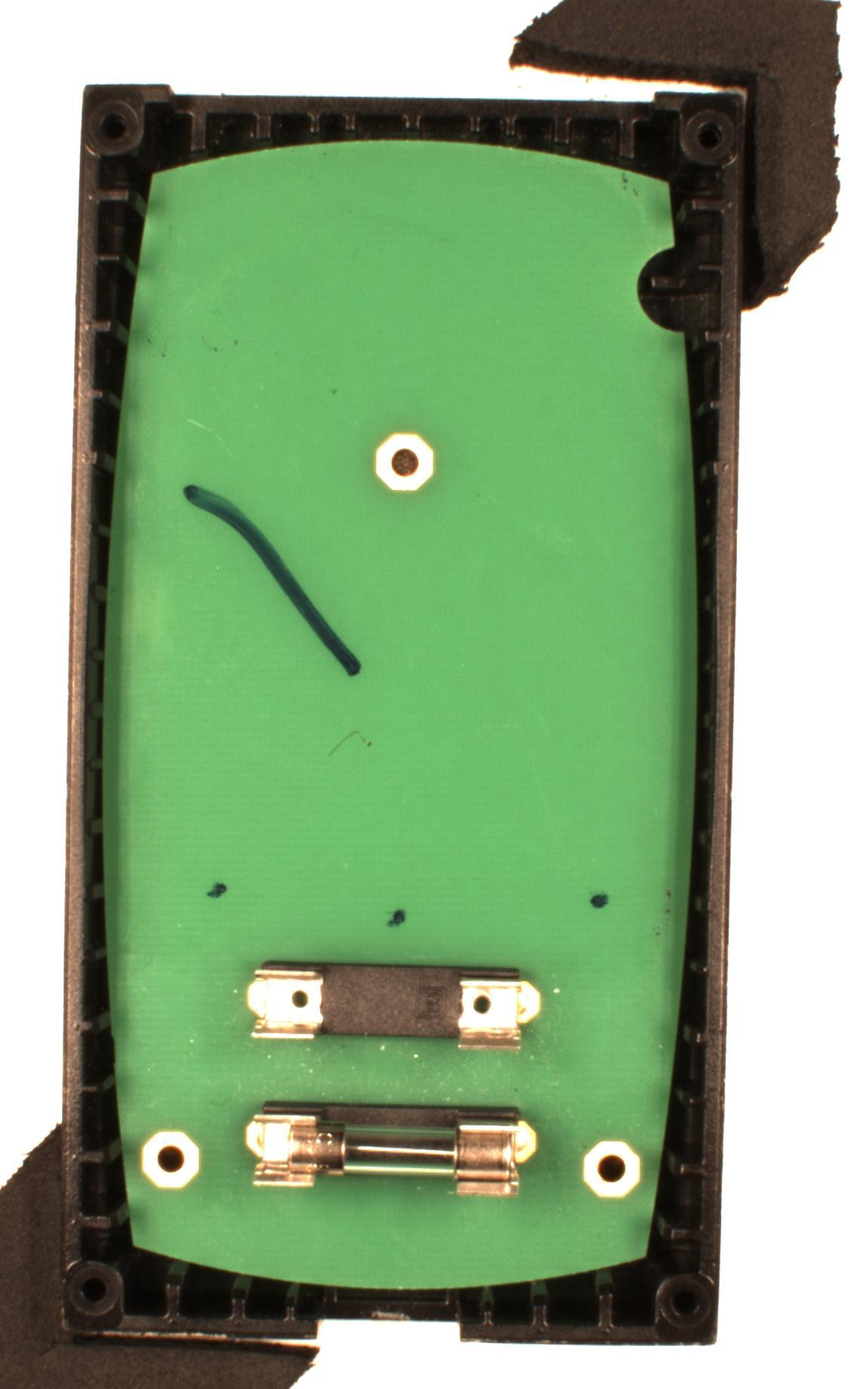Linijsko Ostecene: (182, 482, 365, 679)
Nepostojanje osiguraca: (243, 958, 547, 1051)
Tockasto Ostecenje: (386, 907, 407, 928), (205, 879, 227, 899), (590, 891, 610, 909)
